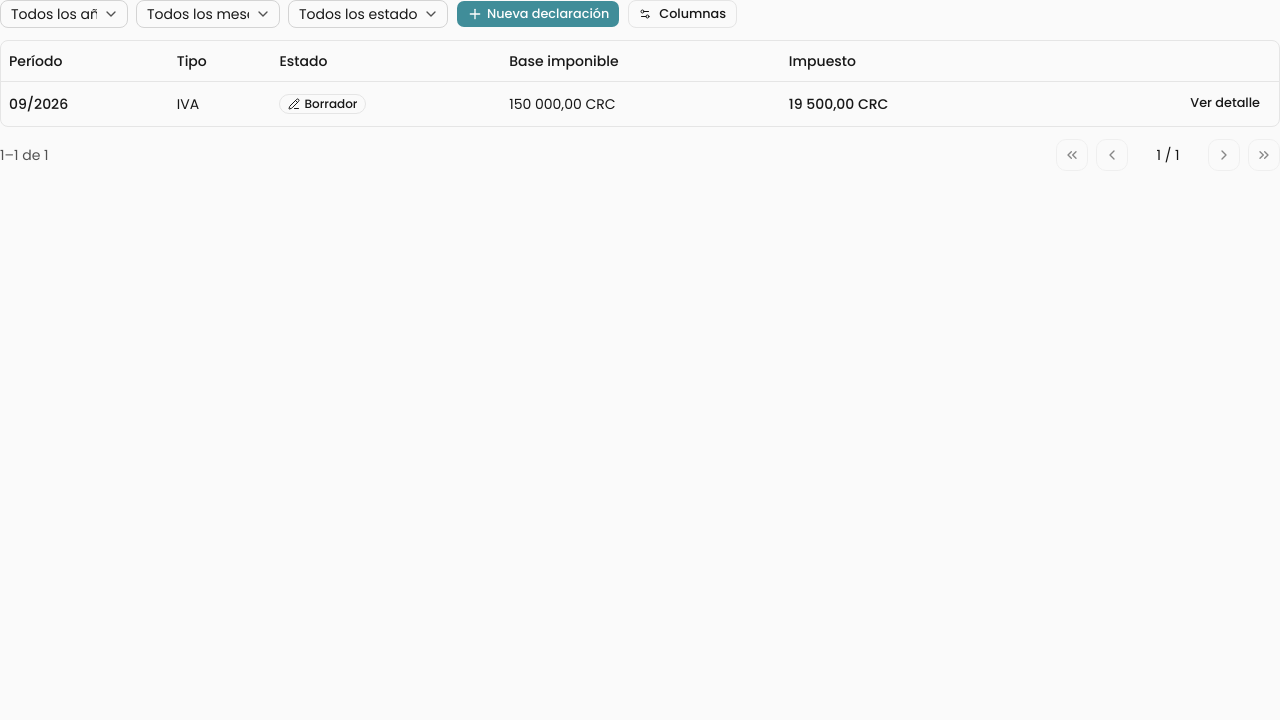
Scenario: FinanceTaxDeclarations — el detalle › nombra las monedas excluidas en vez de convertirlas
Click the button "Ver detalle" at coordinates (1225, 104), box [1179,90,1271,118]
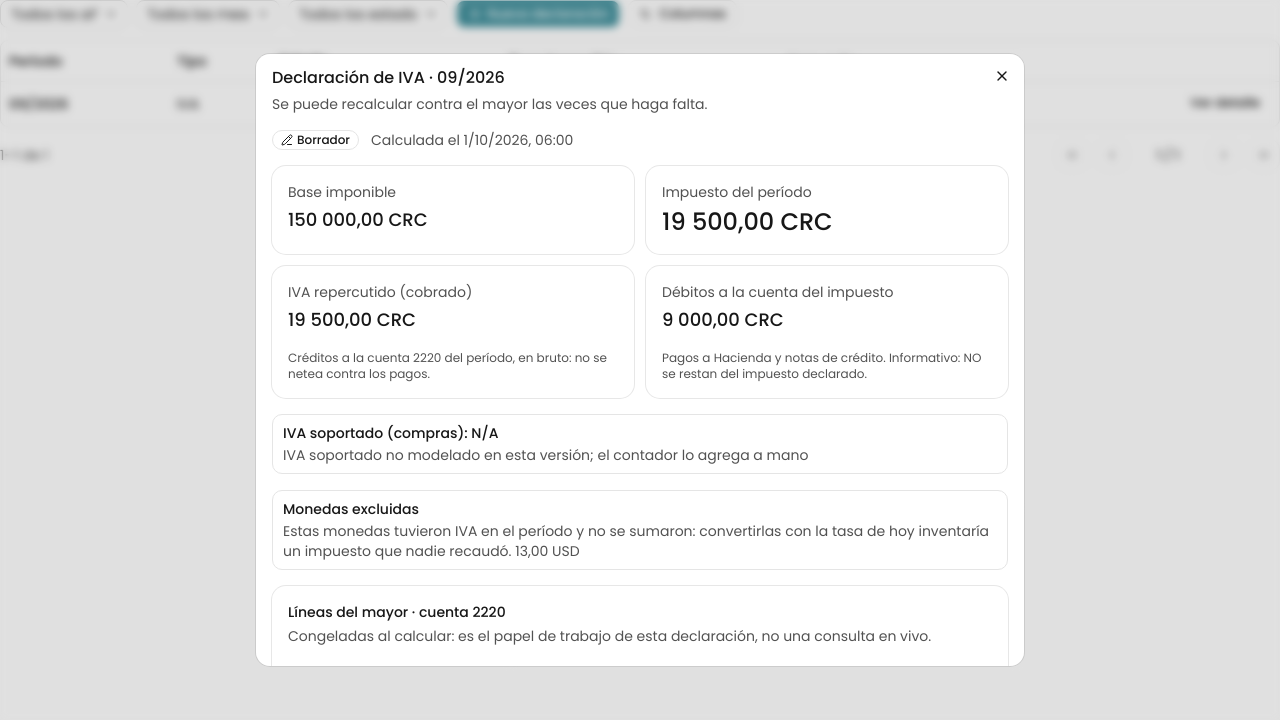
Now the text "Monedas excluidas" is shown, box [283,499,419,519]
Now the text "13,00 USD" is shown, box [515,541,580,561]
